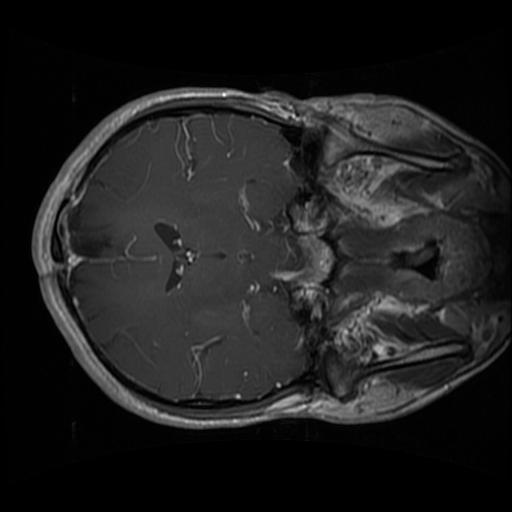glioma: (68, 206, 111, 263)
